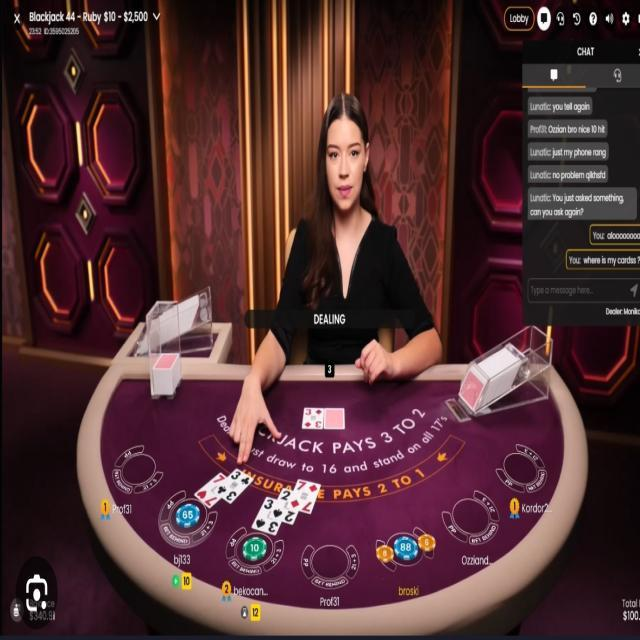Card-2: (269, 488, 298, 524)
Card-3: (215, 468, 253, 504), (252, 496, 281, 535), (302, 407, 323, 429)
Card-7: (194, 471, 226, 508), (288, 479, 320, 514)
